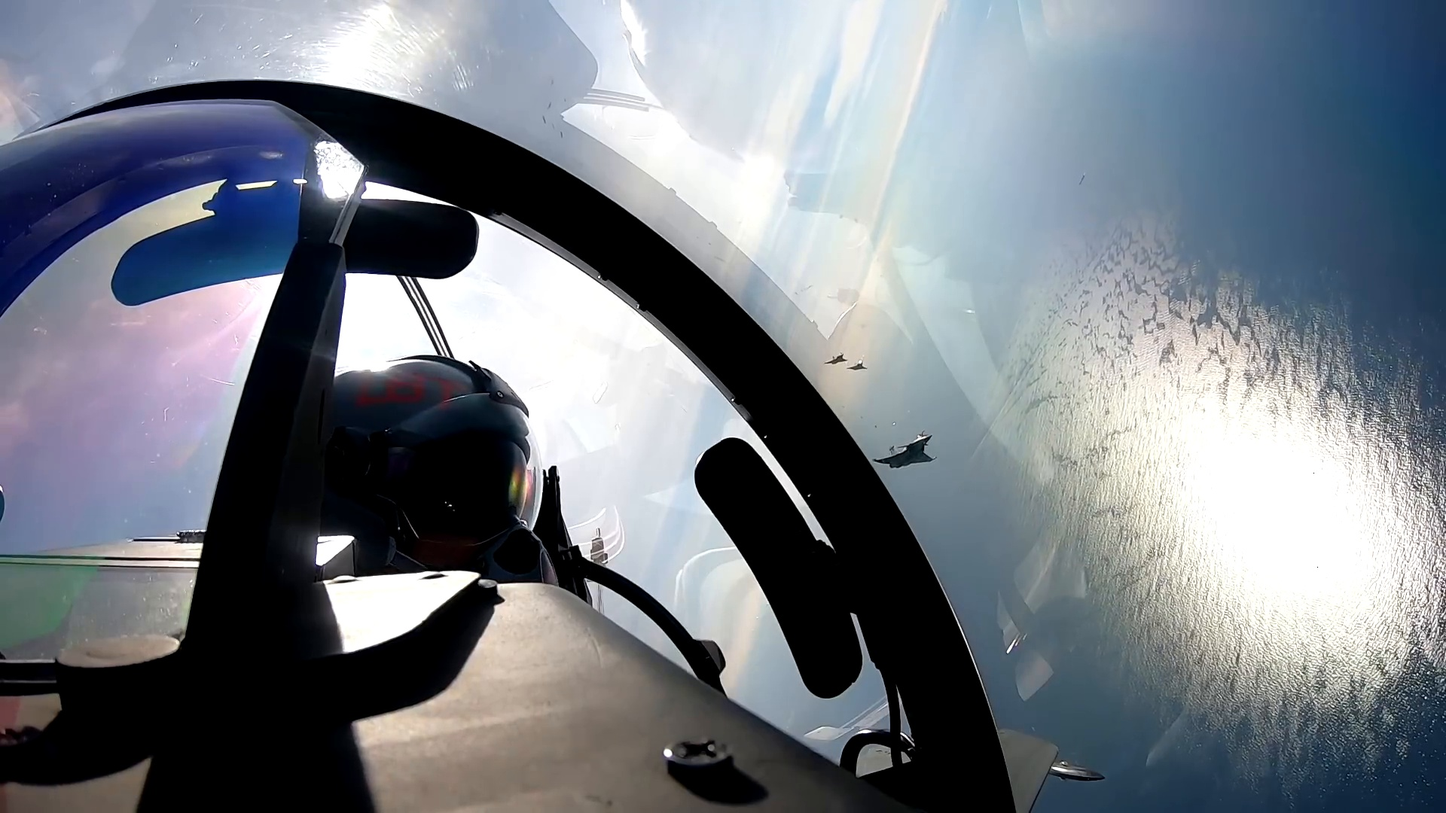Rafale: (873, 431, 939, 470)
